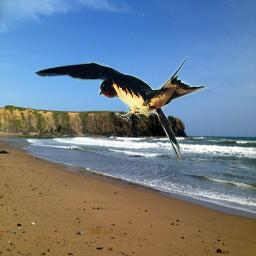Swallow: (31, 53, 237, 161)
